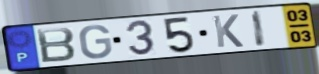3: (123, 18, 157, 59)
5: (162, 15, 196, 55)
B: (35, 26, 78, 65)
G: (78, 23, 115, 60)
I: (251, 9, 268, 49)
K: (210, 13, 246, 49)
